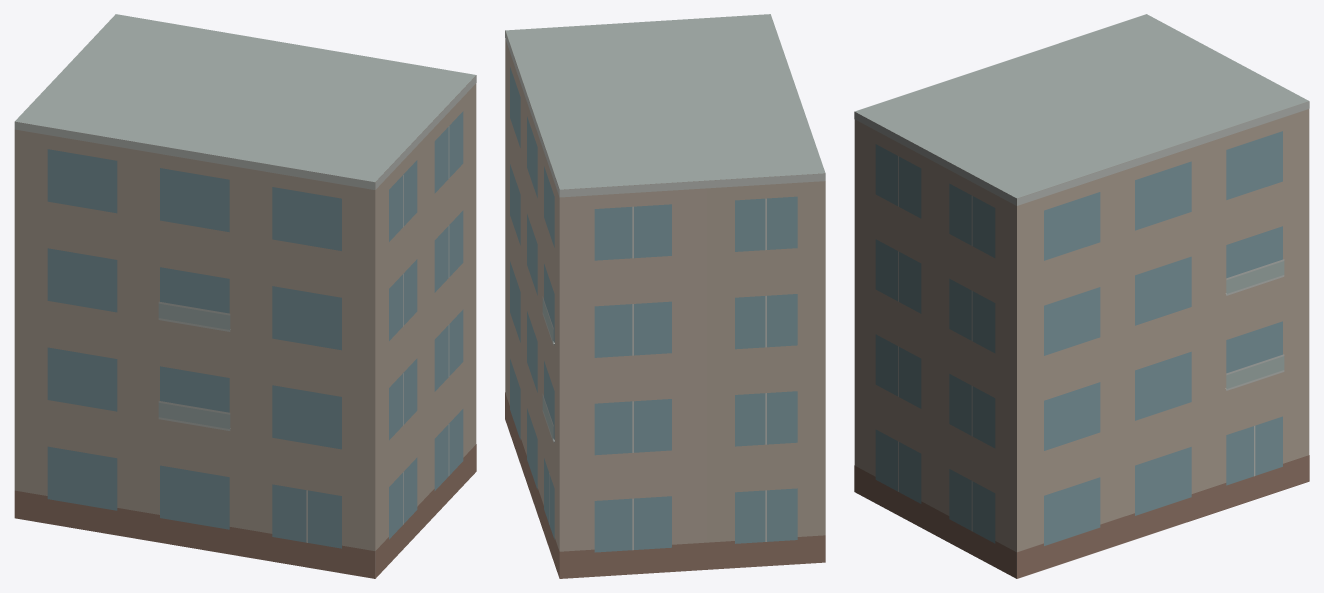
The model's file is residential-bcd559be-060b-4d72-964e-d9bf9b13108b.glb.
The picture shows the model from 3 angles, left to right: view 1: azimuth 30°, elevation 25°; view 2: azimuth 150°, elevation 25°; view 3: azimuth 270°, elevation 25°; orthographic projection. The views are drawn at different scales.
Parts seen in each view (by area): view 1: residential-bcd559be-060b-4d72-964e-d9bf9b13108b.tmp; view 2: residential-bcd559be-060b-4d72-964e-d9bf9b13108b.tmp; view 3: residential-bcd559be-060b-4d72-964e-d9bf9b13108b.tmp.
Boxes of the visible parts, x1=… form: residential-bcd559be-060b-4d72-964e-d9bf9b13108b.tmp: x1=14, y1=14, x2=476, y2=578; residential-bcd559be-060b-4d72-964e-d9bf9b13108b.tmp: x1=505, y1=14, x2=825, y2=578; residential-bcd559be-060b-4d72-964e-d9bf9b13108b.tmp: x1=854, y1=14, x2=1309, y2=578.
Bounding box in the file's own units: 12.7 × 12.2 × 13.23.
